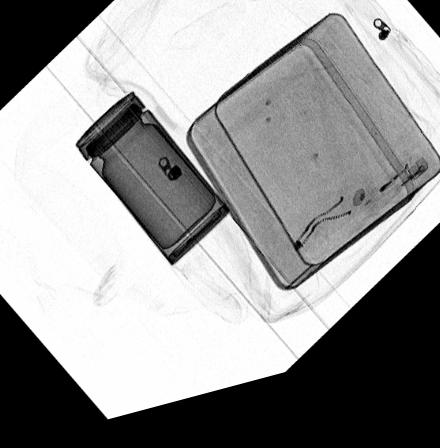Lighter: (360, 174, 429, 237)
